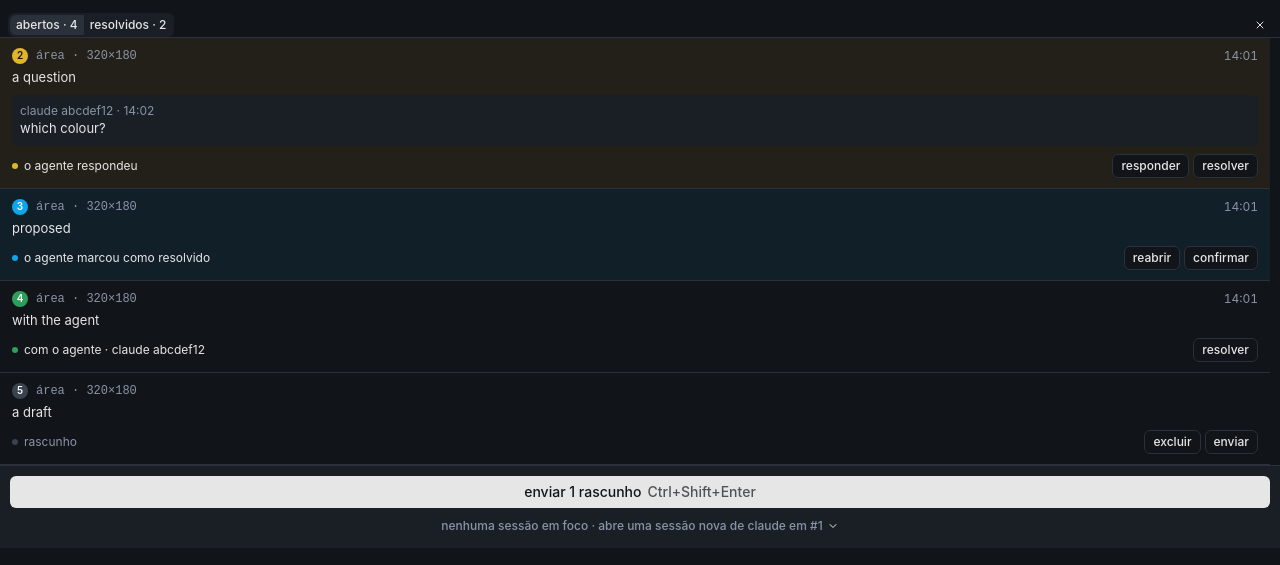
Test case: each state shows its word, colour and actions, by pin; the tabs count open and resolved; a click selects an item (#113)
The image size is (1280, 565).
Expected: the text "a draft" is shown, [12,404,52,420]
Expected: the 4th text "área · 320×180" is shown, [36,384,137,398]
Click the text "with the agent": {"x": 56, "y": 320} [12,312,99,328]
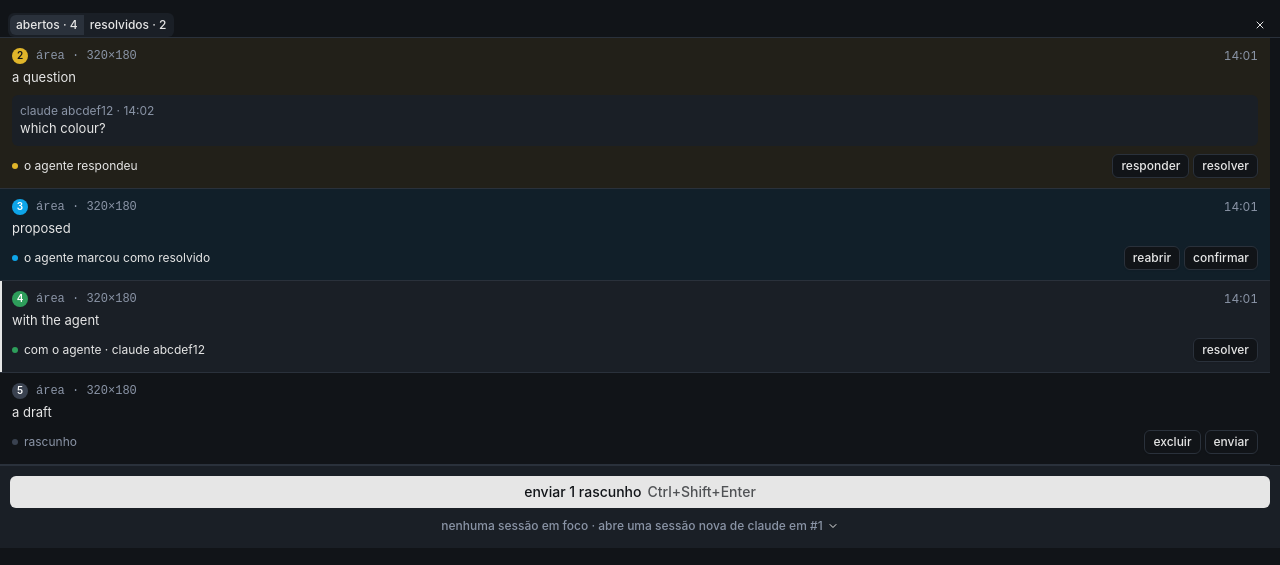
Click the radio button labelled "resolvidos · 2": {"x": 128, "y": 24} [84,14,172,34]
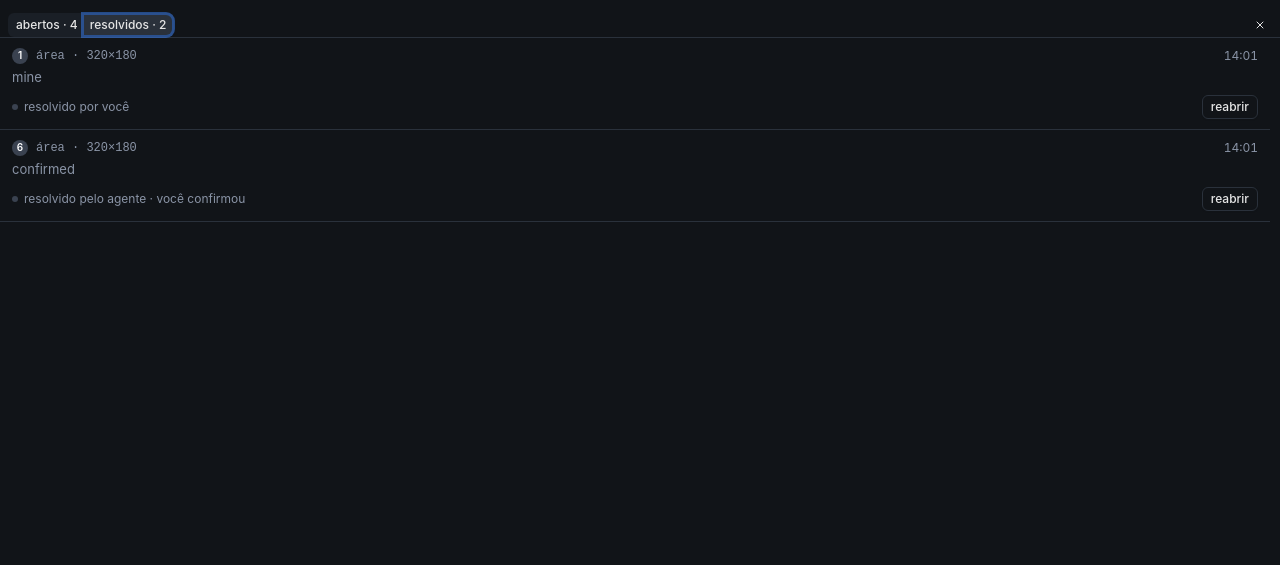
Result: the text "resolvido por você" is shown at [24,99,129,115]
Result: the text "resolvido pelo agente · você confirmou" is shown at [24,191,245,207]
